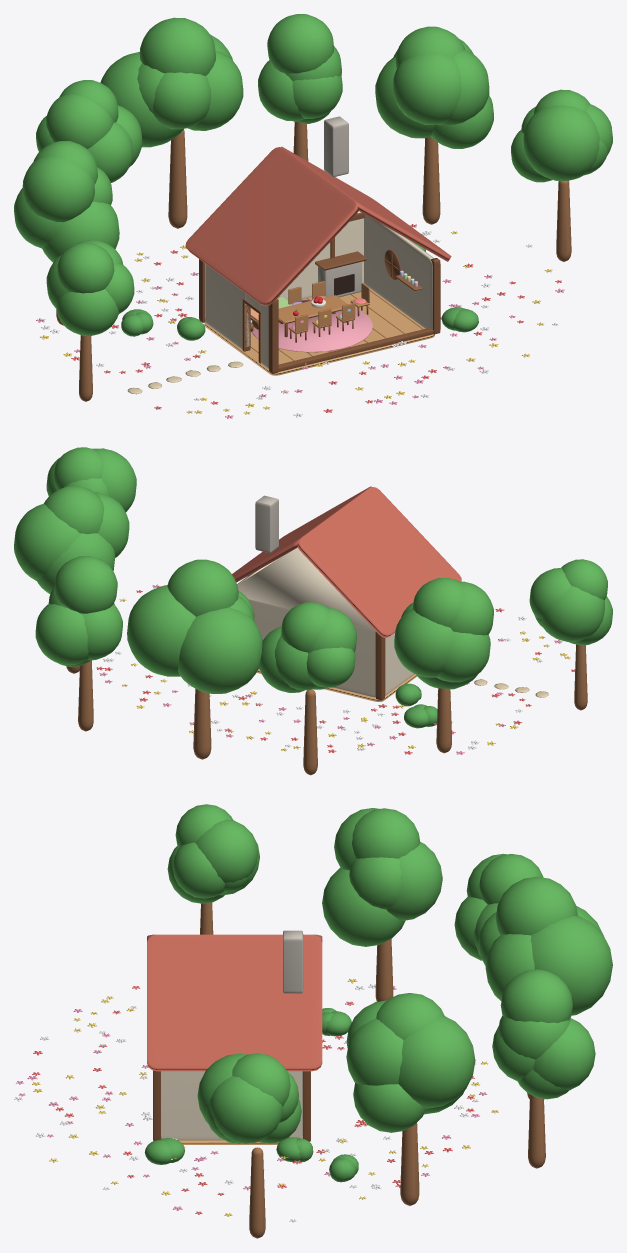
Rendered from cottage.glb.
3 views of the same model, one above another, from view 1: azimuth 30°, elevation 25°; view 2: azimuth 150°, elevation 25°; view 3: azimuth 270°, elevation 25° (orthographic). The views are drawn at different scales.
Parts seen in each view (by area): view 1: Roof.-1, Tree4.Canopy, Tree1.Canopy, Tree0.Canopy, Tree6.Canopy, Tree3.Canopy, Tree5.Canopy, Tree2.Canopy, Wall.Right, Floor, Rug, Wall.Left.Back (+13 smaller); view 2: Tree4.Canopy, Roof.-1, Tree0.Canopy, Tree1.Canopy, Tree6.Canopy, Tree5.Canopy, Tree2.Canopy, Gable.Back, Tree3.Canopy, Wall.Back, Roof.1, Chimney (+8 smaller); view 3: Roof.1, Tree1.Canopy, Tree0.Canopy, Tree4.Canopy, Tree6.Canopy, Tree3.Canopy, Tree2.Canopy, Tree5.Canopy, Wall.Right, Bushes, Tree1.Trunk, Chimney (+3 smaller).
Boxes of the visible parts, x1=… form: Roof.-1: x1=185, y1=147, x2=358, y2=306; Tree4.Canopy: x1=100, y1=17, x2=243, y2=147; Tree1.Canopy: x1=375, y1=26, x2=493, y2=148; Tree0.Canopy: x1=14, y1=141, x2=119, y2=262; Tree6.Canopy: x1=258, y1=14, x2=342, y2=123; Tree3.Canopy: x1=511, y1=89, x2=612, y2=182; Tree5.Canopy: x1=36, y1=80, x2=142, y2=182; Tree2.Canopy: x1=46, y1=240, x2=134, y2=335; Wall.Right: x1=364, y1=215, x2=433, y2=329; Floor: x1=204, y1=288, x2=434, y2=375; Rug: x1=251, y1=300, x2=372, y2=352; Wall.Left.Back: x1=205, y1=264, x2=249, y2=349; Tree4.Canopy: x1=127, y1=559, x2=262, y2=693; Roof.-1: x1=297, y1=487, x2=461, y2=637; Tree0.Canopy: x1=394, y1=578, x2=493, y2=689; Tree1.Canopy: x1=14, y1=486, x2=129, y2=593; Tree6.Canopy: x1=35, y1=556, x2=122, y2=666; Tree5.Canopy: x1=259, y1=602, x2=356, y2=692; Tree2.Canopy: x1=529, y1=559, x2=612, y2=645; Gable.Back: x1=237, y1=547, x2=373, y2=629; Tree3.Canopy: x1=46, y1=447, x2=136, y2=511; Wall.Back: x1=248, y1=599, x2=375, y2=697; Roof.1: x1=232, y1=486, x2=371, y2=582; Chimney: x1=255, y1=495, x2=278, y2=553; Roof.1: x1=147, y1=934, x2=322, y2=1071; Tree1.Canopy: x1=346, y1=993, x2=475, y2=1132; Tree0.Canopy: x1=322, y1=808, x2=442, y2=946; Tree4.Canopy: x1=478, y1=876, x2=612, y2=1015; Tree6.Canopy: x1=492, y1=969, x2=595, y2=1099; Tree3.Canopy: x1=197, y1=1053, x2=301, y2=1143; Tree2.Canopy: x1=167, y1=804, x2=259, y2=903; Tree5.Canopy: x1=454, y1=853, x2=543, y2=960; Wall.Right: x1=161, y1=1071, x2=302, y2=1140; Bushes: x1=144, y1=1008, x2=358, y2=1182; Tree1.Trunk: x1=400, y1=1123, x2=419, y2=1205; Chimney: x1=283, y1=930, x2=303, y2=993.
Size of what is drawn, in the model's own units: 27.78 by 9.75 by 23.58.
